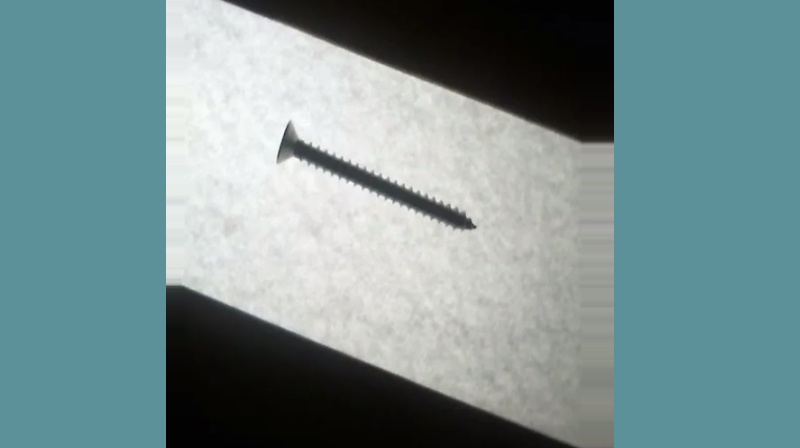S002: (271, 116, 477, 234)
